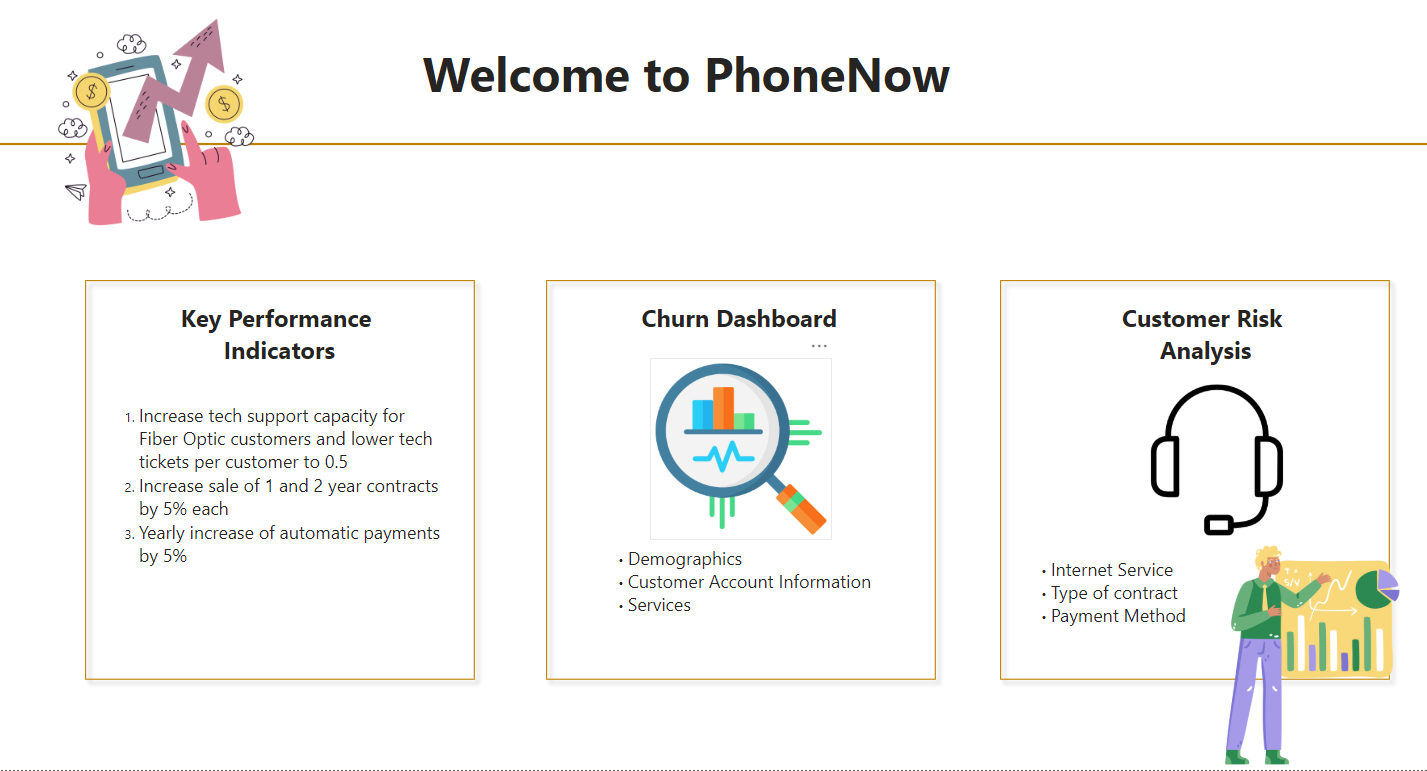

What the dashboard file says about the page in this screenshot:
{"tool":"powerbi","page":{"name":"Page 1","canvas":[1280,720],"ordinal":0},"visuals":[{"type":"textbox","box":[374.2,62.2,495.7,70],"z":0},{"type":"shape","box":[0,147.7,1280,23.3],"z":1000},{"type":"shape","box":[68.3,272.2,367.1,376],"z":2000},{"type":"shape","box":[480.6,272.2,367.1,376],"z":3000},{"type":"shape","box":[887.6,272.2,367.1,376],"z":4000},{"type":"textbox","box":[140.1,295.3,222.6,70.9],"z":5000},{"type":"textbox","box":[102,385.7,299.7,195.1],"z":6000},{"type":"textbox","box":[570.1,295.3,201.3,47.9],"z":7000},{"type":"textbox","box":[540,514.3,262.5,102.9],"z":8000},{"type":"image","box":[582.6,351.1,163.2,163.2],"z":9000},{"type":"textbox","box":[944.3,295.3,271.3,79.8],"z":10000},{"type":"textbox","box":[918.6,524,183.5,83.3],"z":11000},{"type":"image","box":[1017.9,369.8,144.5,144.5],"z":12000},{"type":"image","box":[1071.1,514.3,209.3,205.7],"z":13000},{"type":"image","box":[40.8,41.7,198.6,195.1],"z":14000}]}

Visuals, with their boxes on the page's 1280x720 design canvas (x1, y1, x2, y2). These are canvas units, not pixel positions in the 1427x771 screenshot, which may show the page scaled, cropped or inside an application window:
textbox: 374, 62, 870, 132
shape: 0, 148, 1280, 171
shape: 68, 272, 435, 648
shape: 481, 272, 848, 648
shape: 888, 272, 1255, 648
textbox: 140, 295, 363, 366
textbox: 102, 386, 402, 581
textbox: 570, 295, 771, 343
textbox: 540, 514, 802, 617
image: 583, 351, 746, 514
textbox: 944, 295, 1216, 375
textbox: 919, 524, 1102, 607
image: 1018, 370, 1162, 514
image: 1071, 514, 1280, 720
image: 41, 42, 239, 237
